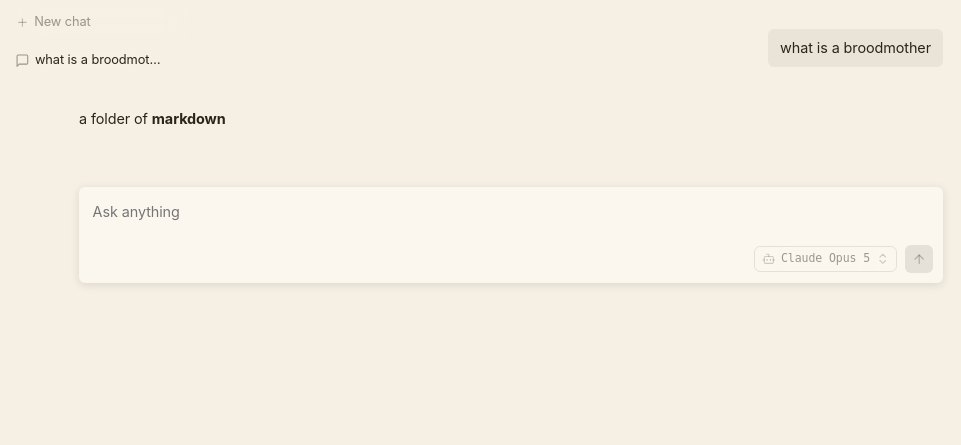
Test: says what is typed and follows the answer in as it arrives
Type "and again" into the text box named "Message". click: [511, 218]
box: [89,197,933,239]
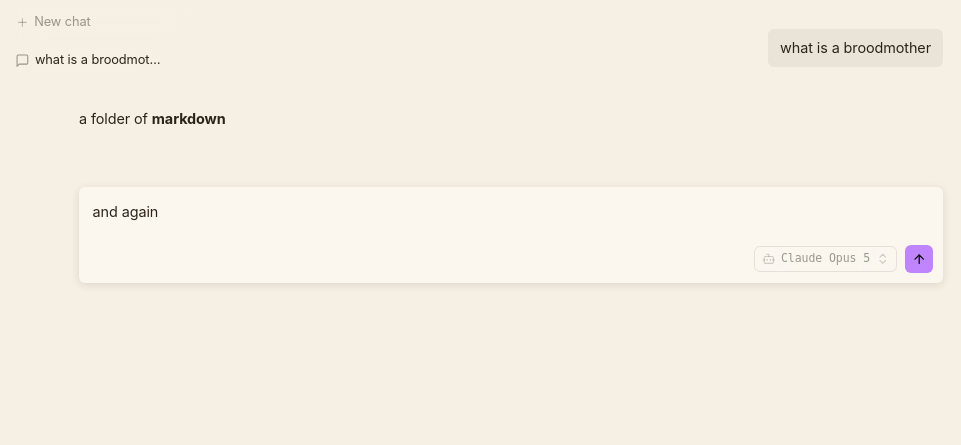
Click the button named "Send". click: [919, 259]
box: [905,245,933,273]
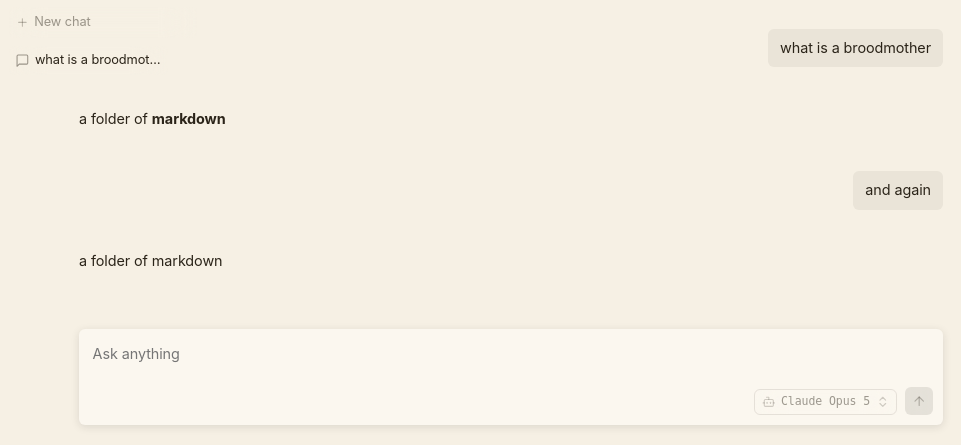
Expected: the element named "Conversation" shows "a folder of markdown", [79,252,222,269]
Now the element named "Conversation" shows "and again", box [865,181,931,198]
